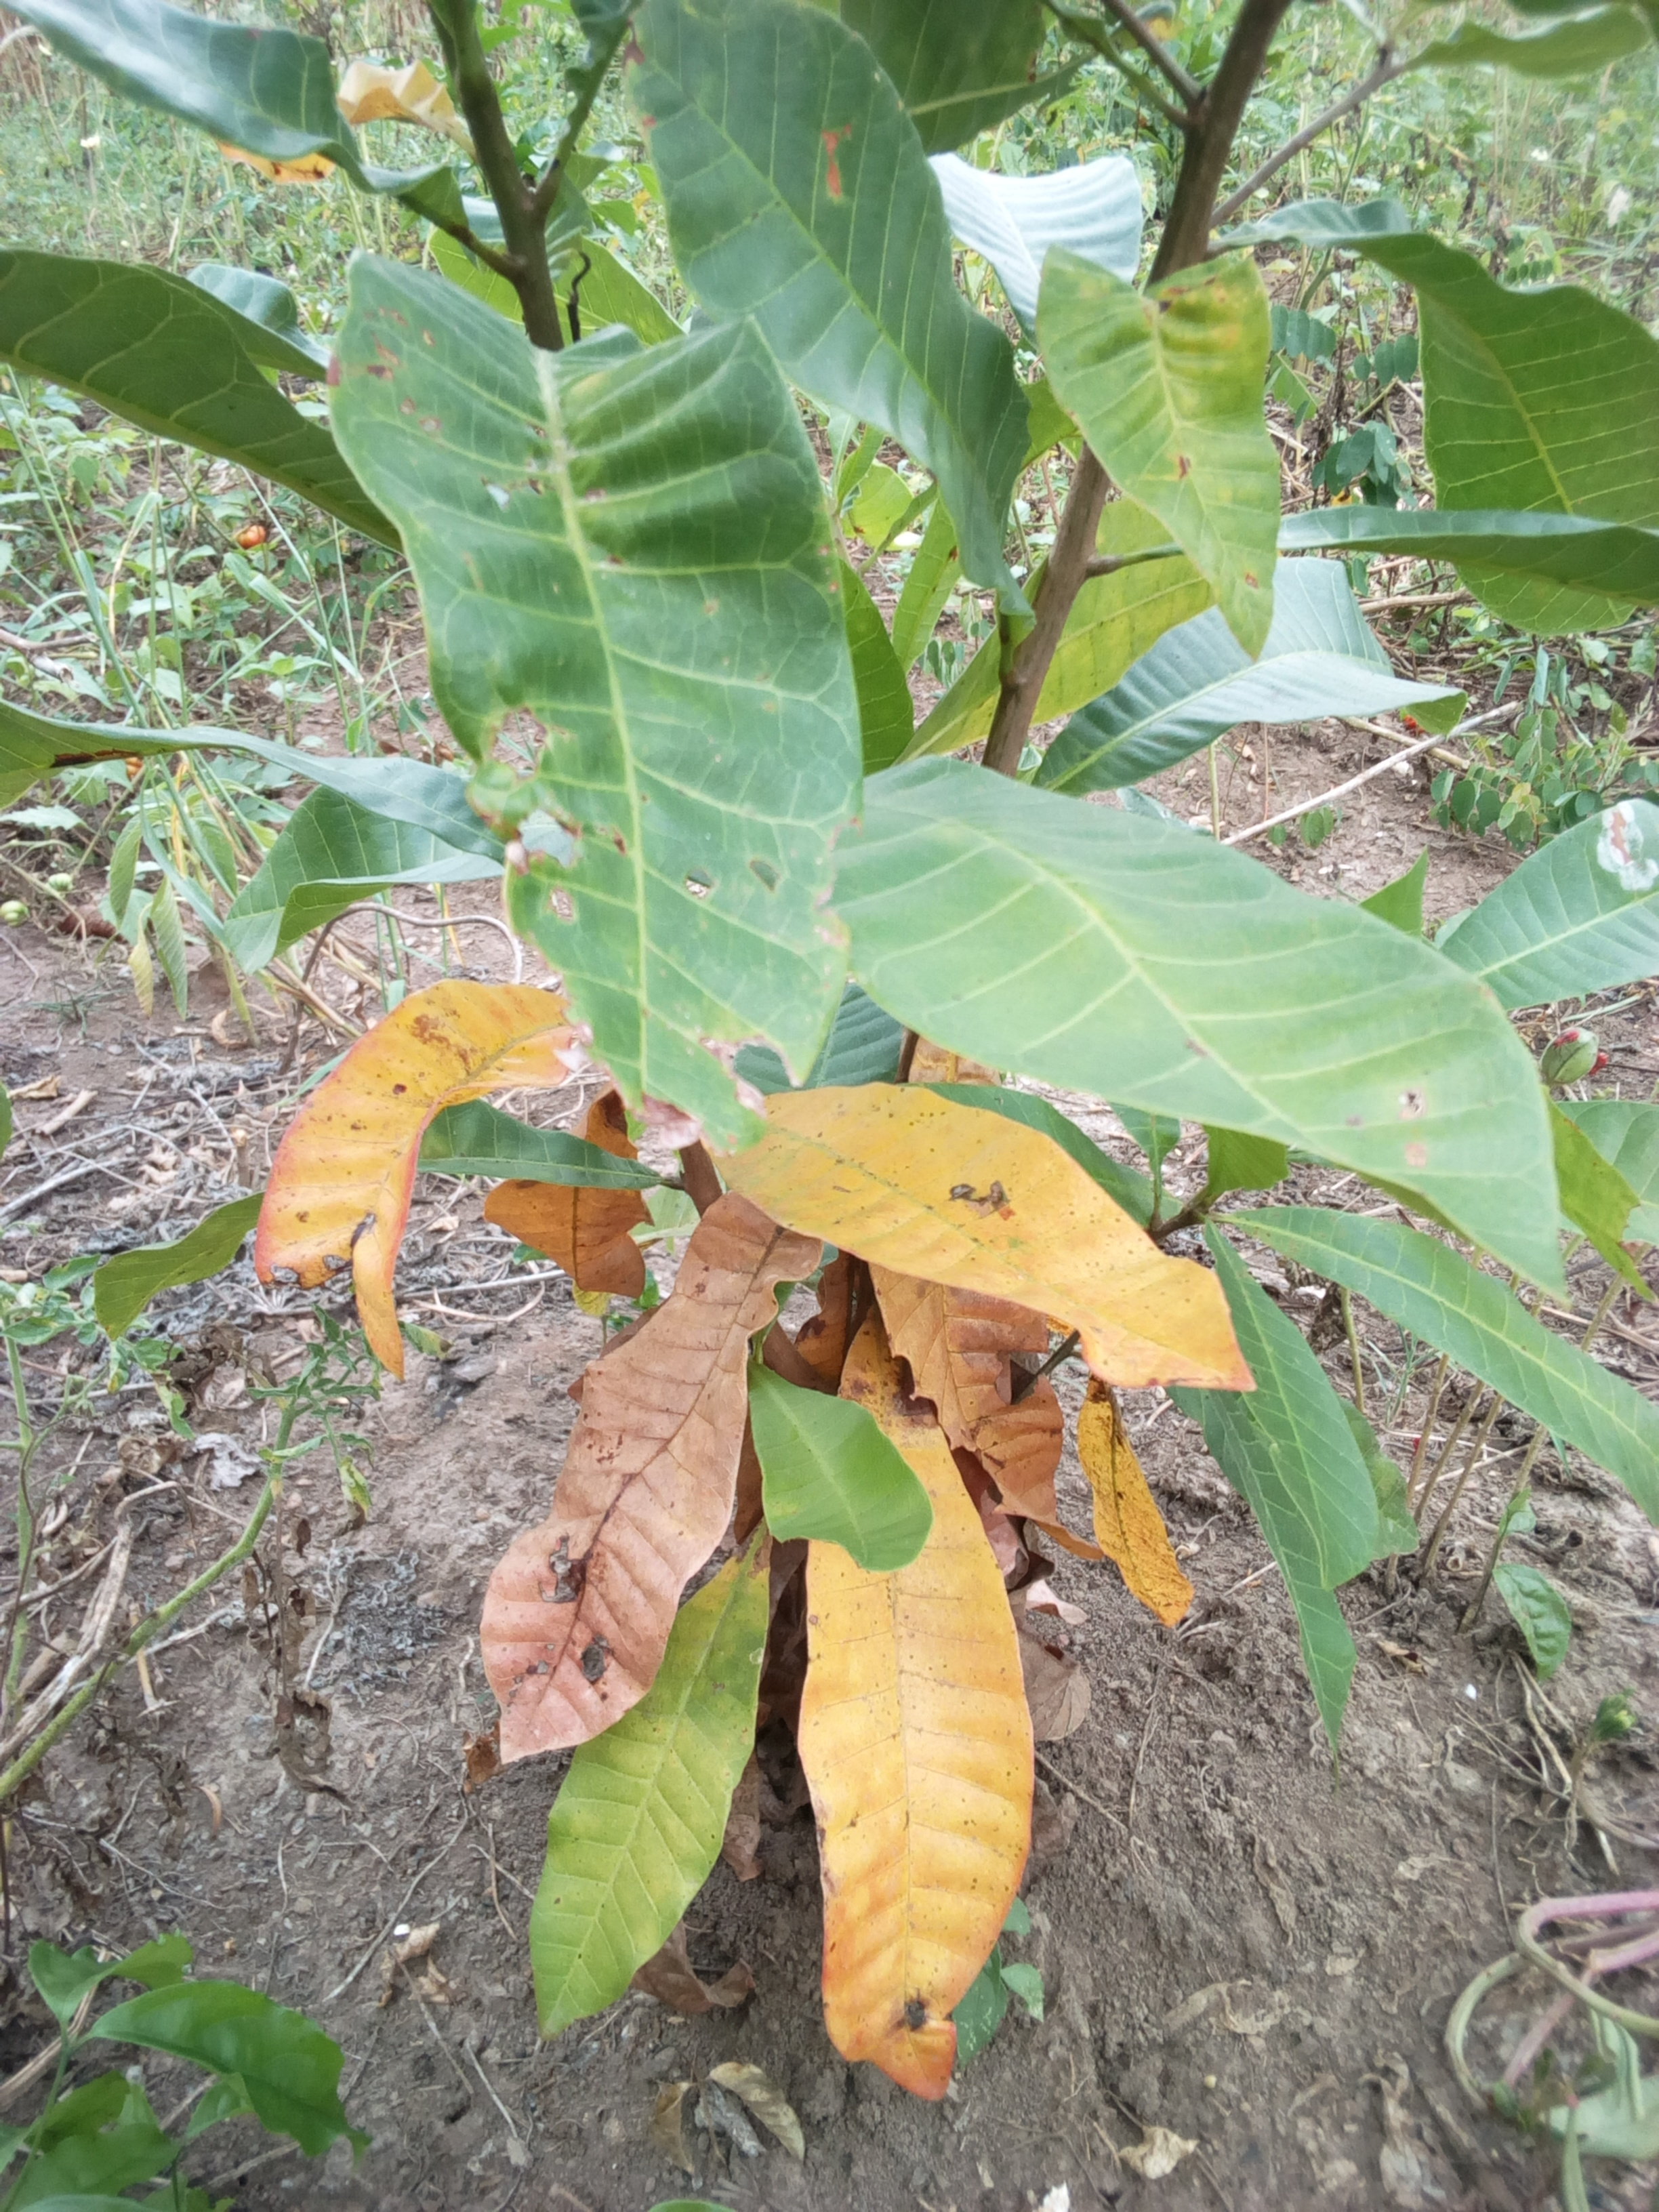Anoplonemis curvipes: (335, 211, 866, 1130)
